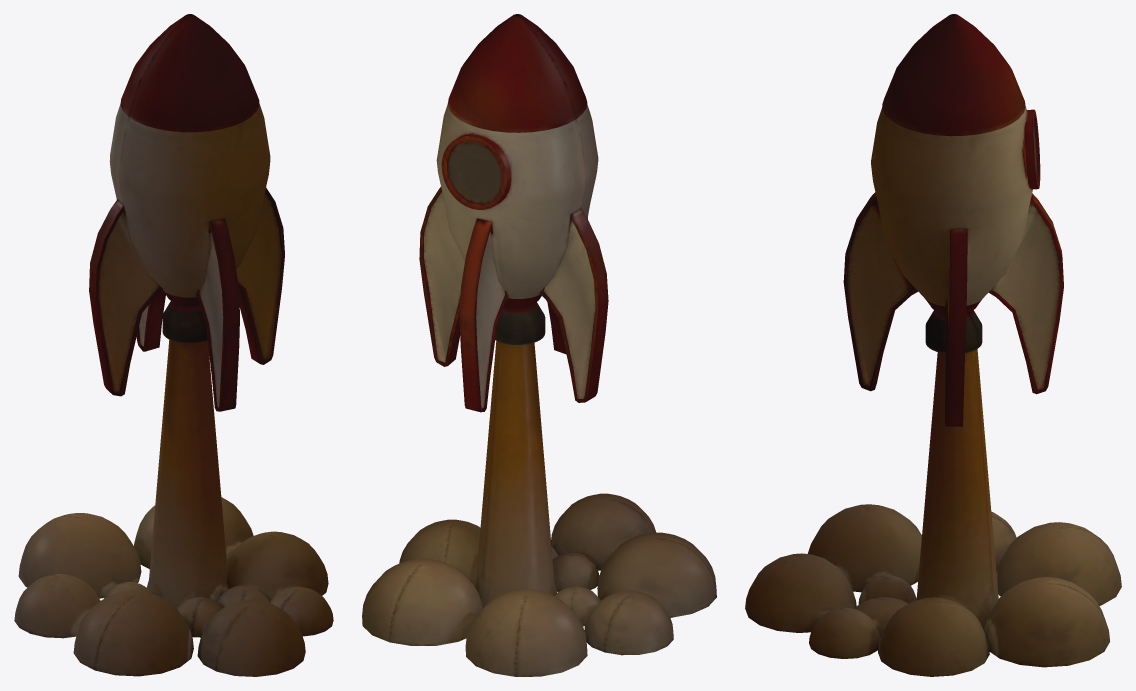
Rendered from G2_DM_lampe_fusee.gltf.
The picture shows the model from 3 angles, left to right: view 1: azimuth 30°, elevation 25°; view 2: azimuth 150°, elevation 25°; view 3: azimuth 270°, elevation 25°; orthographic projection. The views are drawn at different scales.
Parts seen in each view (by area): view 1: lampe_fusee; view 2: lampe_fusee; view 3: lampe_fusee.
Boxes of the visible parts, <box> form: lampe_fusee: <box>14,14,333,676</box>; lampe_fusee: <box>362,14,716,676</box>; lampe_fusee: <box>745,14,1121,676</box>.
Size of the model in its own units: 0.178 by 0.3513 by 0.1999.
1 material, 1 textured.
